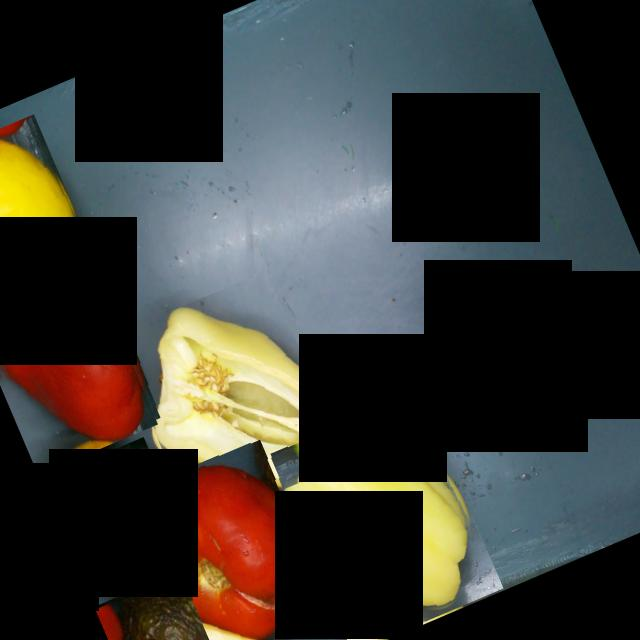avocado: (40, 436, 197, 606), (95, 572, 234, 640)
lemon: (0, 113, 100, 320)
pepper: (110, 270, 348, 530), (268, 392, 502, 640)
tomatoes: (133, 441, 334, 640), (0, 266, 157, 474)
